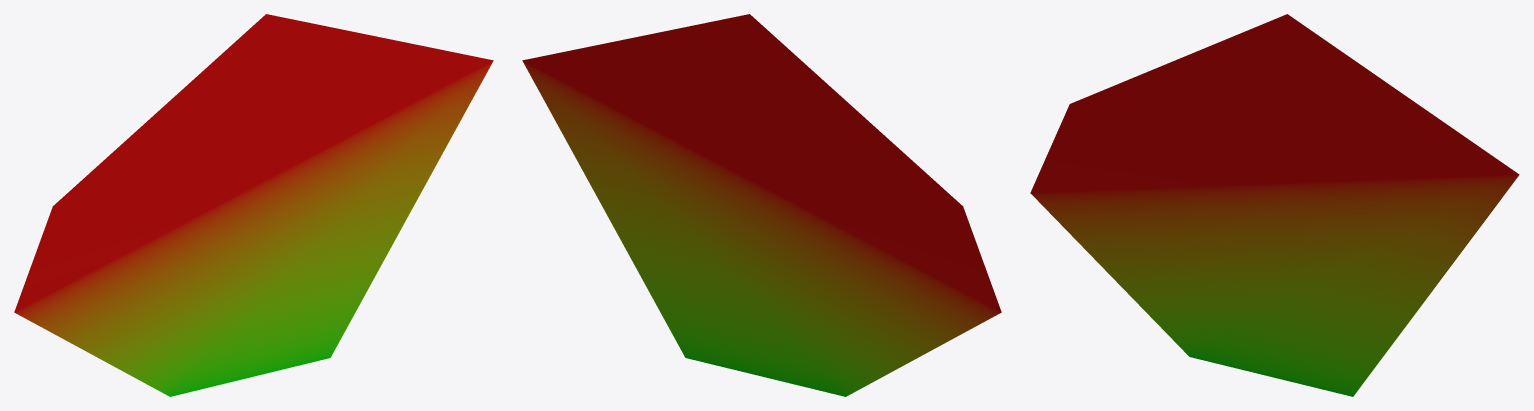
File: Small Balsam_LOD6_Var6_xefmcgrqx.fbx
3 renders of one model, left to right at view 1: azimuth 30°, elevation 25°; view 2: azimuth 150°, elevation 25°; view 3: azimuth 330°, elevation 25°, orthographic. The views are drawn at different scales.
Visible parts, largest first — view 1: _x0rn_Var6_LOD6; view 2: _x0rn_Var6_LOD6; view 3: _x0rn_Var6_LOD6.
Part boxes in pixels (x1,y1,x2,y2): _x0rn_Var6_LOD6: (14,14,493,396); _x0rn_Var6_LOD6: (522,14,1001,396); _x0rn_Var6_LOD6: (1030,14,1519,396).
Size of the model in its own units: 58.78 by 42.12 by 1.98e-06.
